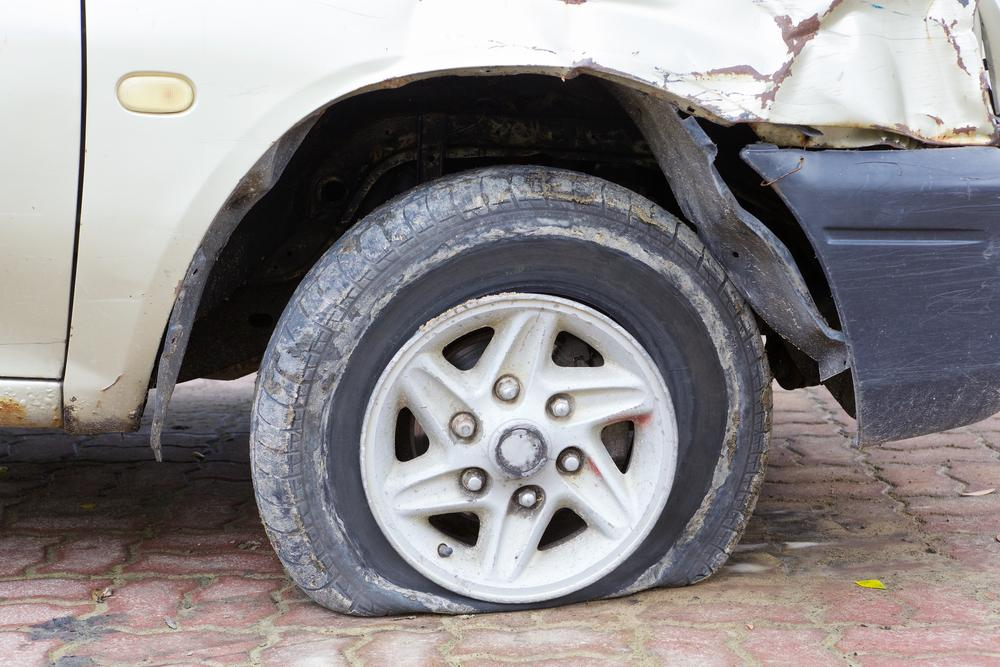dent: (602, 0, 999, 148)
tire flat: (248, 164, 772, 617)
